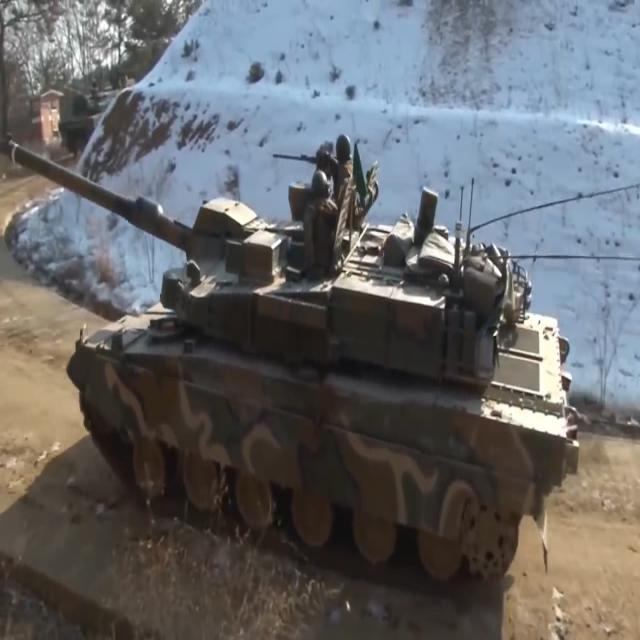korea tank: (1, 124, 580, 588)
